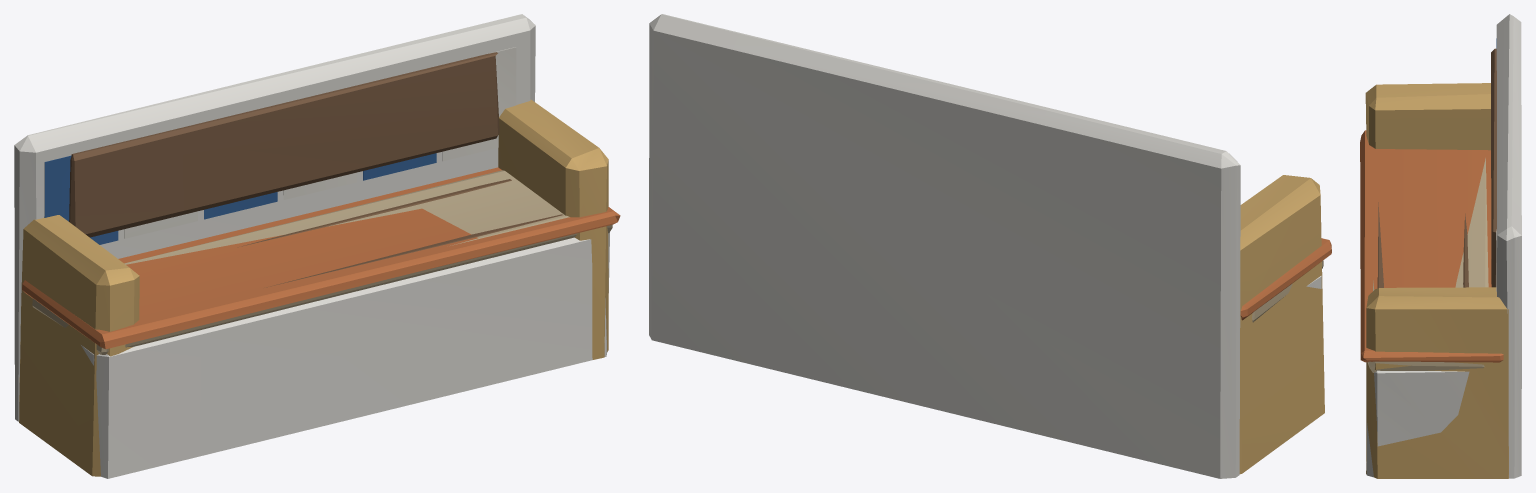
The model's file is bench.glb.
3 views of the same model, side by side, from view 1: azimuth 30°, elevation 25°; view 2: azimuth 150°, elevation 25°; view 3: azimuth 270°, elevation 25° (orthographic). The views are drawn at different scales.
Visible parts, largest first — view 1: bench.v0.mesh, bench.v1.mesh, bench.v2.mesh; view 2: bench.v0.mesh, bench.v1.mesh; view 3: bench.v0.mesh, bench.v1.mesh, bench.v2.mesh.
Boxes of the visible parts, x1,y1,x2,y2 form: bench.v0.mesh: [14, 14, 620, 478]; bench.v1.mesh: [19, 52, 608, 476]; bench.v2.mesh: [32, 170, 612, 354]; bench.v0.mesh: [649, 14, 1331, 478]; bench.v1.mesh: [1239, 175, 1324, 474]; bench.v0.mesh: [1360, 14, 1521, 478]; bench.v1.mesh: [1365, 48, 1508, 478]; bench.v2.mesh: [1367, 158, 1488, 372].
Size of the model in its own units: 1.71 by 0.8827 by 0.521.
